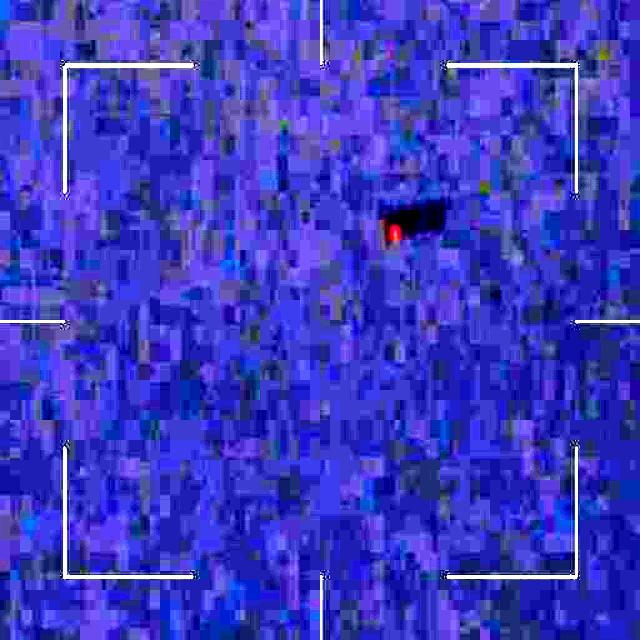bird: (382, 200, 409, 261)
